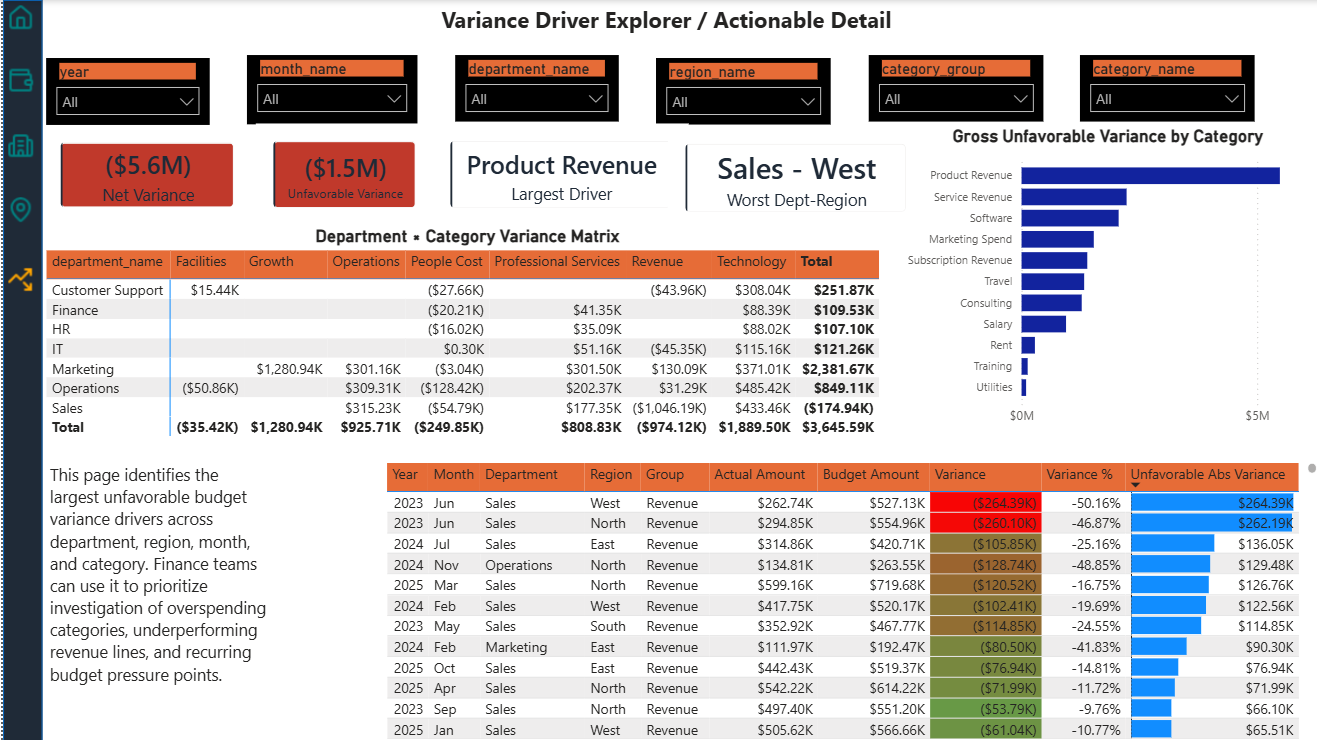

Layout of this report page (visuals, bound fields, positions):
{"tool":"powerbi","page":{"name":"Variance Driver Explorer","canvas":[1280,720],"ordinal":4},"visuals":[{"type":"shape","box":[0,0,38.3,720],"z":0,"group":"g1"},{"type":"textbox","box":[42.4,0,1203.3,46.9],"z":0},{"type":"slicer","fields":{"Values":["dim_date.year"]},"box":[42.4,55.8,158.5,67],"z":1000},{"type":"actionButton","box":[0,60,40,34.3],"z":1000,"group":"g1"},{"type":"slicer","fields":{"Values":["dim_date.month_name"]},"box":[237.1,53.6,165.2,67],"z":2000},{"type":"actionButton","box":[0,124.3,40,34.3],"z":2000,"group":"g1"},{"type":"slicer","fields":{"Values":["dim_department.department_name"]},"box":[438.5,53.6,158.5,64.7],"z":3000},{"type":"actionButton","box":[0,185.7,40,34.3],"z":3000,"group":"g1"},{"type":"slicer","fields":{"Values":["dim_region.region_name"]},"box":[633.2,55.8,169.7,64.7],"z":4000},{"type":"actionButton","box":[0,254.3,40,34.3],"z":4000,"group":"g1"},{"type":"actionButton","box":[0,0,40,34.3],"z":5000,"group":"g1"},{"type":"slicer","fields":{"Values":["dim_category.category_group"]},"box":[839,53.6,169.7,64.7],"z":5000},{"type":"cardVisual","fields":{"Data":["_Measures.Net Variance"]},"box":[39.1,120.6,202.7,97.2],"z":6000},{"type":"cardVisual","fields":{"Data":["_Measures.Total Unfavorable Variance"]},"box":[245.3,120.4,172.2,99],"z":7000},{"type":"cardVisual","fields":{"Data":["_Measures.Worst Category"]},"box":[417.5,120.4,248.4,99],"z":8000},{"type":"slicer","fields":{"Values":["dim_category.category_name"]},"box":[1044.8,53.6,169.7,64.7],"z":9000},{"type":"clusteredBarChart","title":"Gross Unfavorable Variance by Category","fields":{"Category":["dim_category.category_name"],"Y":["_Measures.Unfavorable Abs Variance"]},"box":[864,122.8,415.3,299.2],"z":10000},{"type":"pivotTable","title":"Department × Category Variance Matrix","fields":{"Rows":["dim_department.department_name"],"Columns":["dim_category.category_group"],"Values":["_Measures.Variance"]},"box":[38,218.8,826,225.5],"z":11000},{"type":"tableEx","fields":{"Values":["dim_date.year","dim_date.month_name","dim_department.department_name","dim_region.region_name","dim_category.category_group","_Measures.Total Actual","_Measures.Total Budget","_Measures.Variance","_Measures.Variance %","_Measures.Unfavorable Abs Variance"]},"box":[365.7,444.3,912.9,277.1],"z":12000},{"type":"textbox","box":[40,444.3,222.9,258.6],"z":13000},{"type":"actionButton","box":[0,686.5,40.2,33.5],"z":14000},{"type":"cardVisual","fields":{"Data":["_Measures.Worst Dept Region"]},"box":[644.3,122.9,248.6,100],"z":15000},{"type":"group","id":"g1","title":"Group 1","box":[0,0,40,720],"z":16000}]}

Visuals, with their boxes on the page's 1280x720 design canvas (x1, y1, x2, y2). These are canvas units, not pixel positions in the 1317x740 screenshot, which may show the page scaled, cropped or inside an application window:
shape: [left=0, top=0, right=38, bottom=720]
textbox: [left=42, top=0, right=1246, bottom=47]
slicer - dim_date.year: [left=42, top=56, right=201, bottom=123]
actionButton: [left=0, top=60, right=40, bottom=94]
slicer - dim_date.month_name: [left=237, top=54, right=402, bottom=121]
actionButton: [left=0, top=124, right=40, bottom=159]
slicer - dim_department.department_name: [left=438, top=54, right=597, bottom=118]
actionButton: [left=0, top=186, right=40, bottom=220]
slicer - dim_region.region_name: [left=633, top=56, right=803, bottom=120]
actionButton: [left=0, top=254, right=40, bottom=289]
actionButton: [left=0, top=0, right=40, bottom=34]
slicer - dim_category.category_group: [left=839, top=54, right=1009, bottom=118]
cardVisual - _Measures.Net Variance: [left=39, top=121, right=242, bottom=218]
cardVisual - _Measures.Total Unfavorable Variance: [left=245, top=120, right=418, bottom=219]
cardVisual - _Measures.Worst Category: [left=418, top=120, right=666, bottom=219]
slicer - dim_category.category_name: [left=1045, top=54, right=1214, bottom=118]
"Gross Unfavorable Variance by Category" clusteredBarChart: [left=864, top=123, right=1279, bottom=422]
"Department × Category Variance Matrix" pivotTable: [left=38, top=219, right=864, bottom=444]
tableEx - dim_date.year x dim_date.month_name: [left=366, top=444, right=1279, bottom=721]
textbox: [left=40, top=444, right=263, bottom=703]
actionButton: [left=0, top=686, right=40, bottom=720]
cardVisual - _Measures.Worst Dept Region: [left=644, top=123, right=893, bottom=223]
"Group 1" group: [left=0, top=0, right=40, bottom=720]
